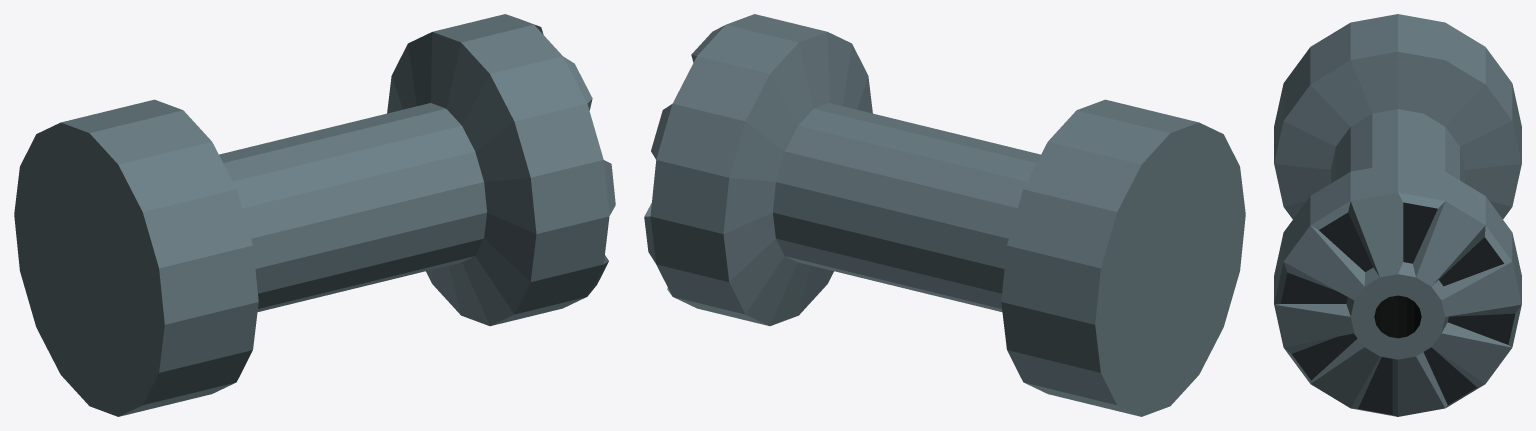
The model's file is wheel_medium.glb.
3 renders of one model, left to right at view 1: azimuth 30°, elevation 25°; view 2: azimuth 150°, elevation 25°; view 3: azimuth 270°, elevation 25°, orthographic. The views are drawn at different scales.
Parts seen in each view (by area): view 1: WheelMedium; view 2: WheelMedium; view 3: WheelMedium.
Part boxes in pixels (bbox=[...]): WheelMedium: bbox=[14, 14, 615, 416]; WheelMedium: bbox=[644, 14, 1245, 416]; WheelMedium: bbox=[1274, 14, 1521, 416].
Bounding box in the file's own units: 0.8398 × 0.4612 × 0.4612.
Materials: 1 (1 with a texture image).
